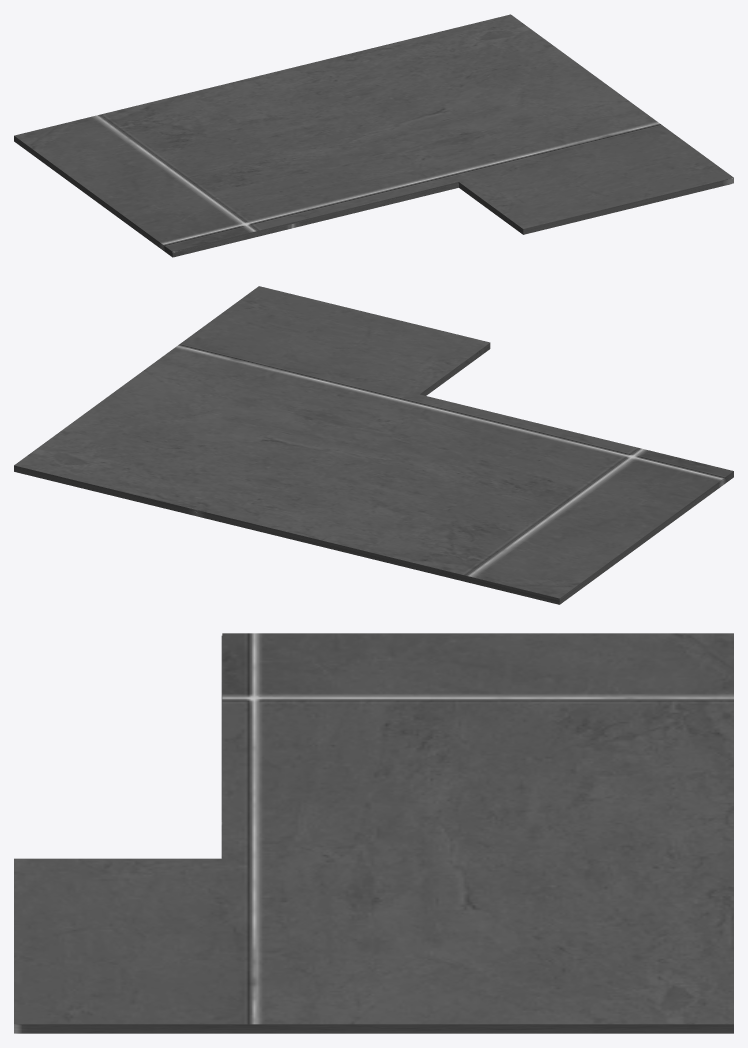
Rendered from floor.fbx.
3 renders of one model, top to bottom at view 1: azimuth 30°, elevation 25°; view 2: azimuth 150°, elevation 25°; view 3: azimuth 270°, elevation 25°, orthographic. The views are drawn at different scales.
Parts seen in each view (by area): view 1: Cube.008; view 2: Cube.008; view 3: Cube.008.
Part boxes in pixels (x1,y1,x2,y2): Cube.008: [14, 14, 733, 257]; Cube.008: [14, 286, 733, 604]; Cube.008: [14, 633, 733, 1033].
Bounding box in the file's own units: 360 × 4 × 280.
Materials: 1 (1 with a texture image).
